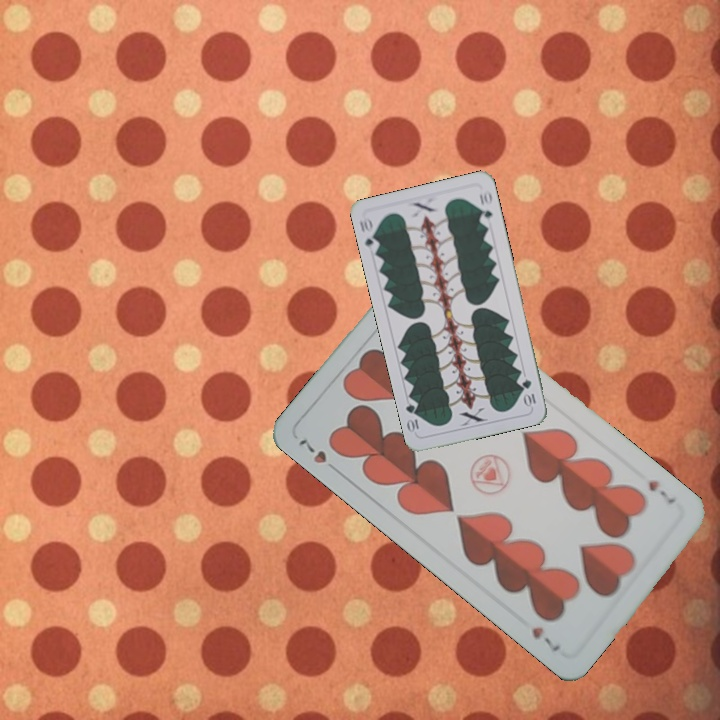G10: (355, 213, 382, 254), (518, 375, 538, 409)
H7: (294, 433, 343, 476), (644, 475, 679, 507)
